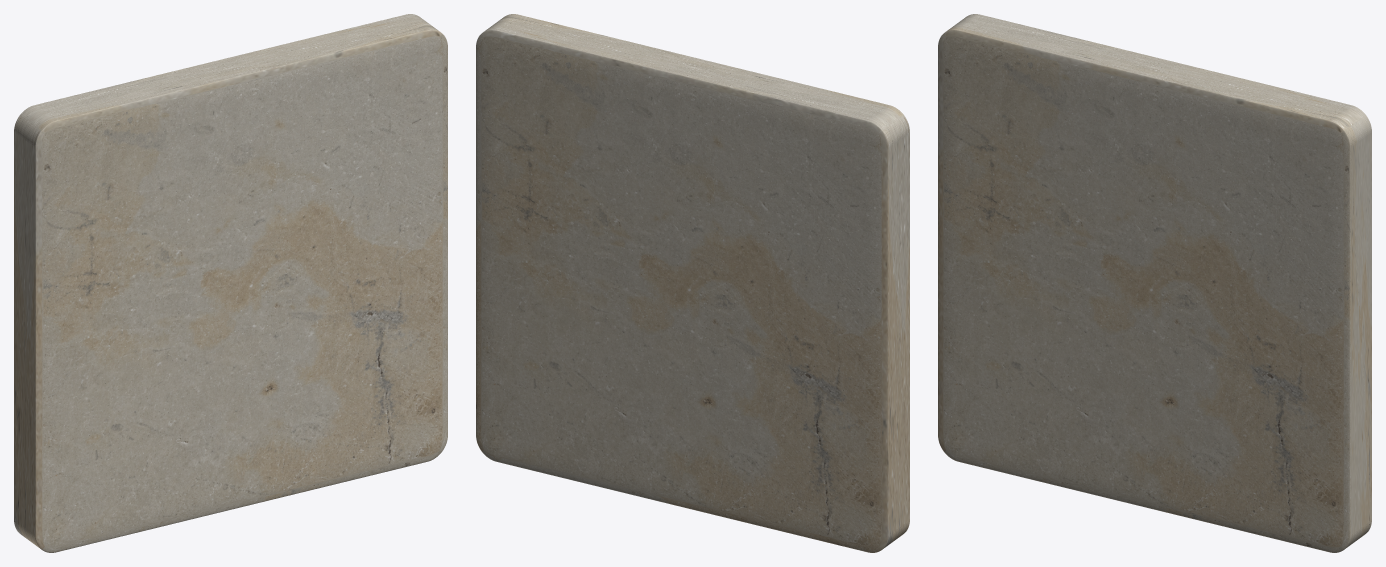
File: limestone-white-cream.glb
3 views of the same model, side by side, from view 1: azimuth 30°, elevation 25°; view 2: azimuth 150°, elevation 25°; view 3: azimuth 330°, elevation 25° (orthographic).
Parts seen in each view (by area): view 1: Cube; view 2: Cube; view 3: Cube.
Part boxes in pixels (<box>): Cube: <box>14,14,447,552</box>; Cube: <box>476,14,909,552</box>; Cube: <box>938,14,1371,552</box>.
Size of the model in its own units: 0.1 by 0.1 by 0.01.
Materials: 2 (2 with a texture image).
